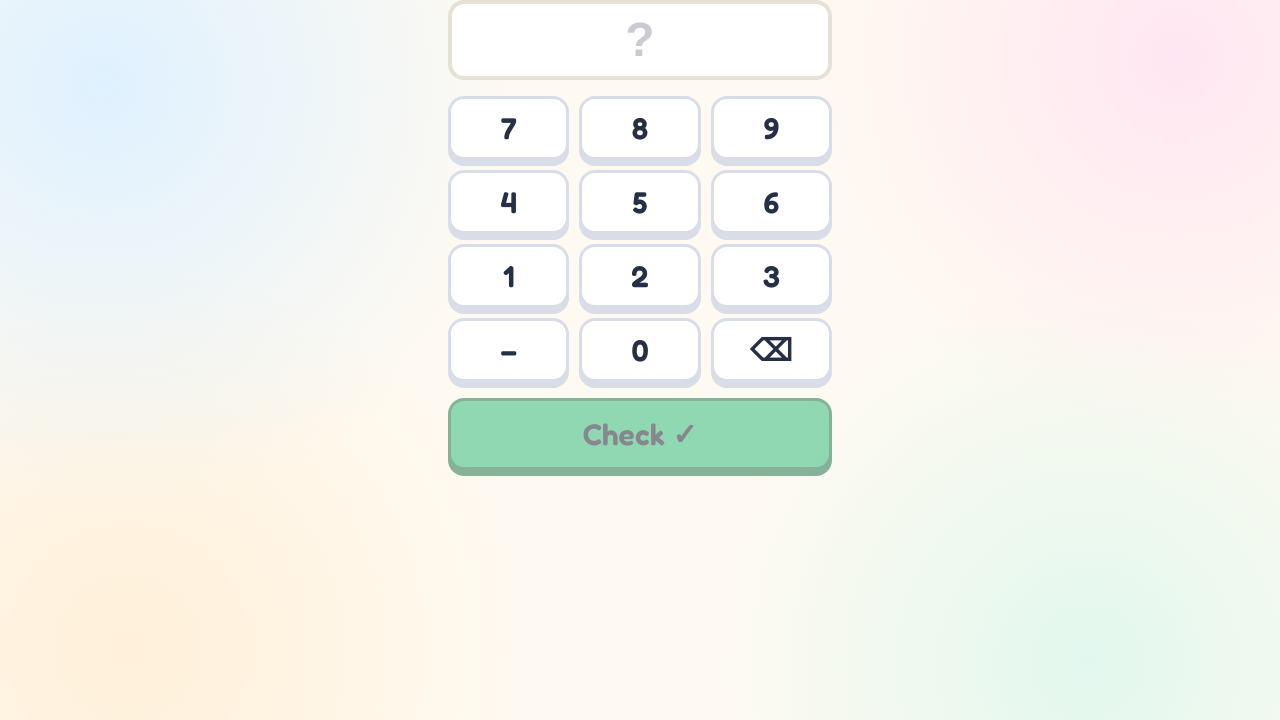
Test: InputQuestion › only shows a minus key on the integer keypad
The width and height of the screenshot is (1280, 720).
Click the button "−" at (509, 350), box [448,318,569,382]
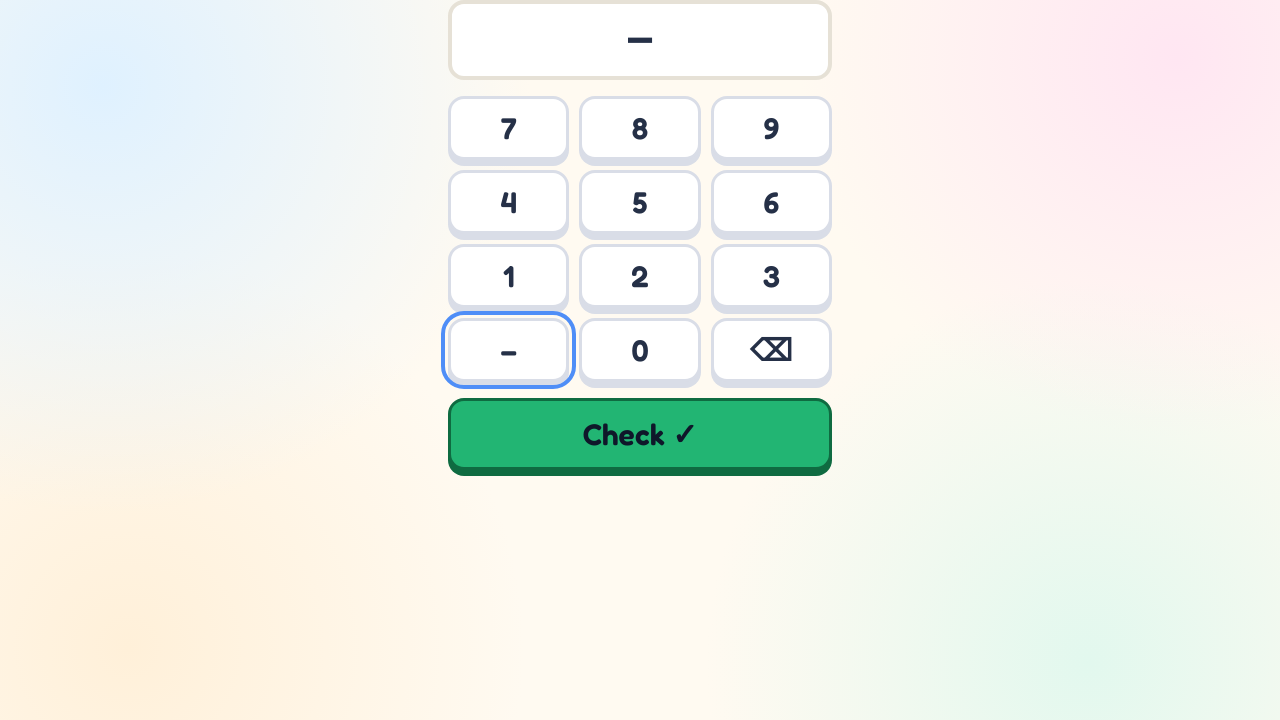
Click the button "3" at (771, 276), box [711,244,832,308]
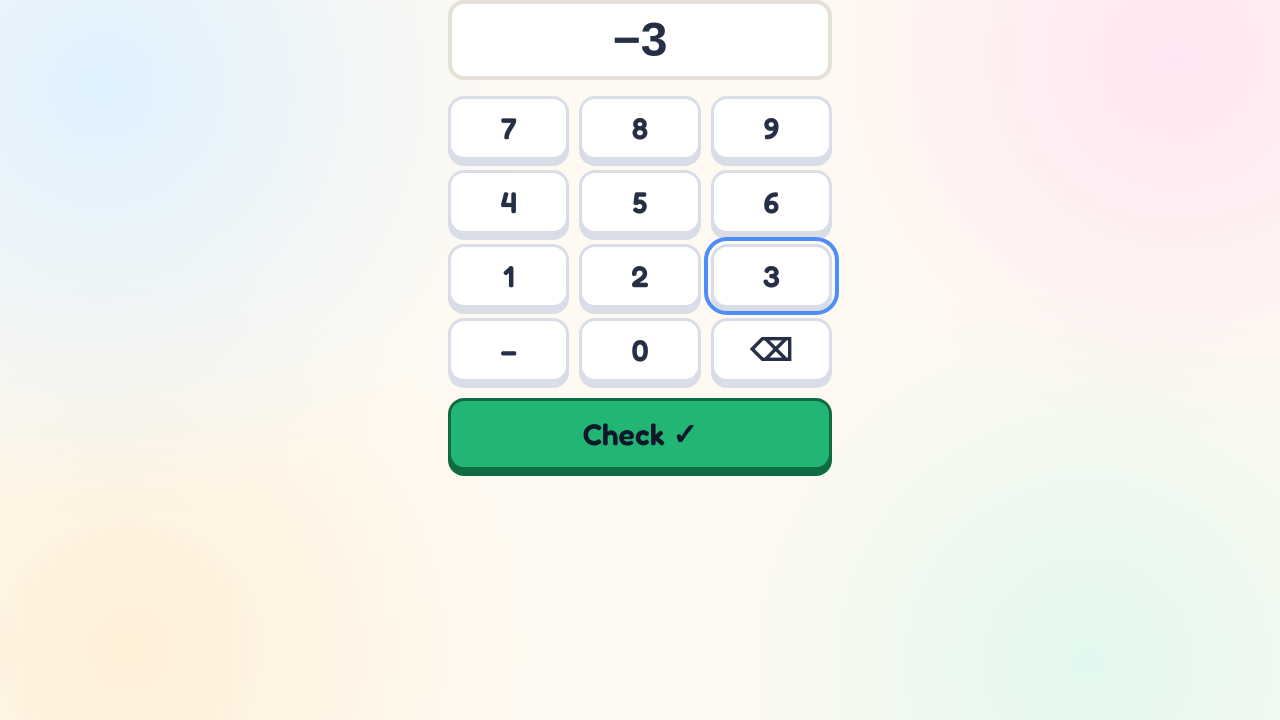
Check: the element named "Your answer: -3" is shown, box [448,0,832,80]
